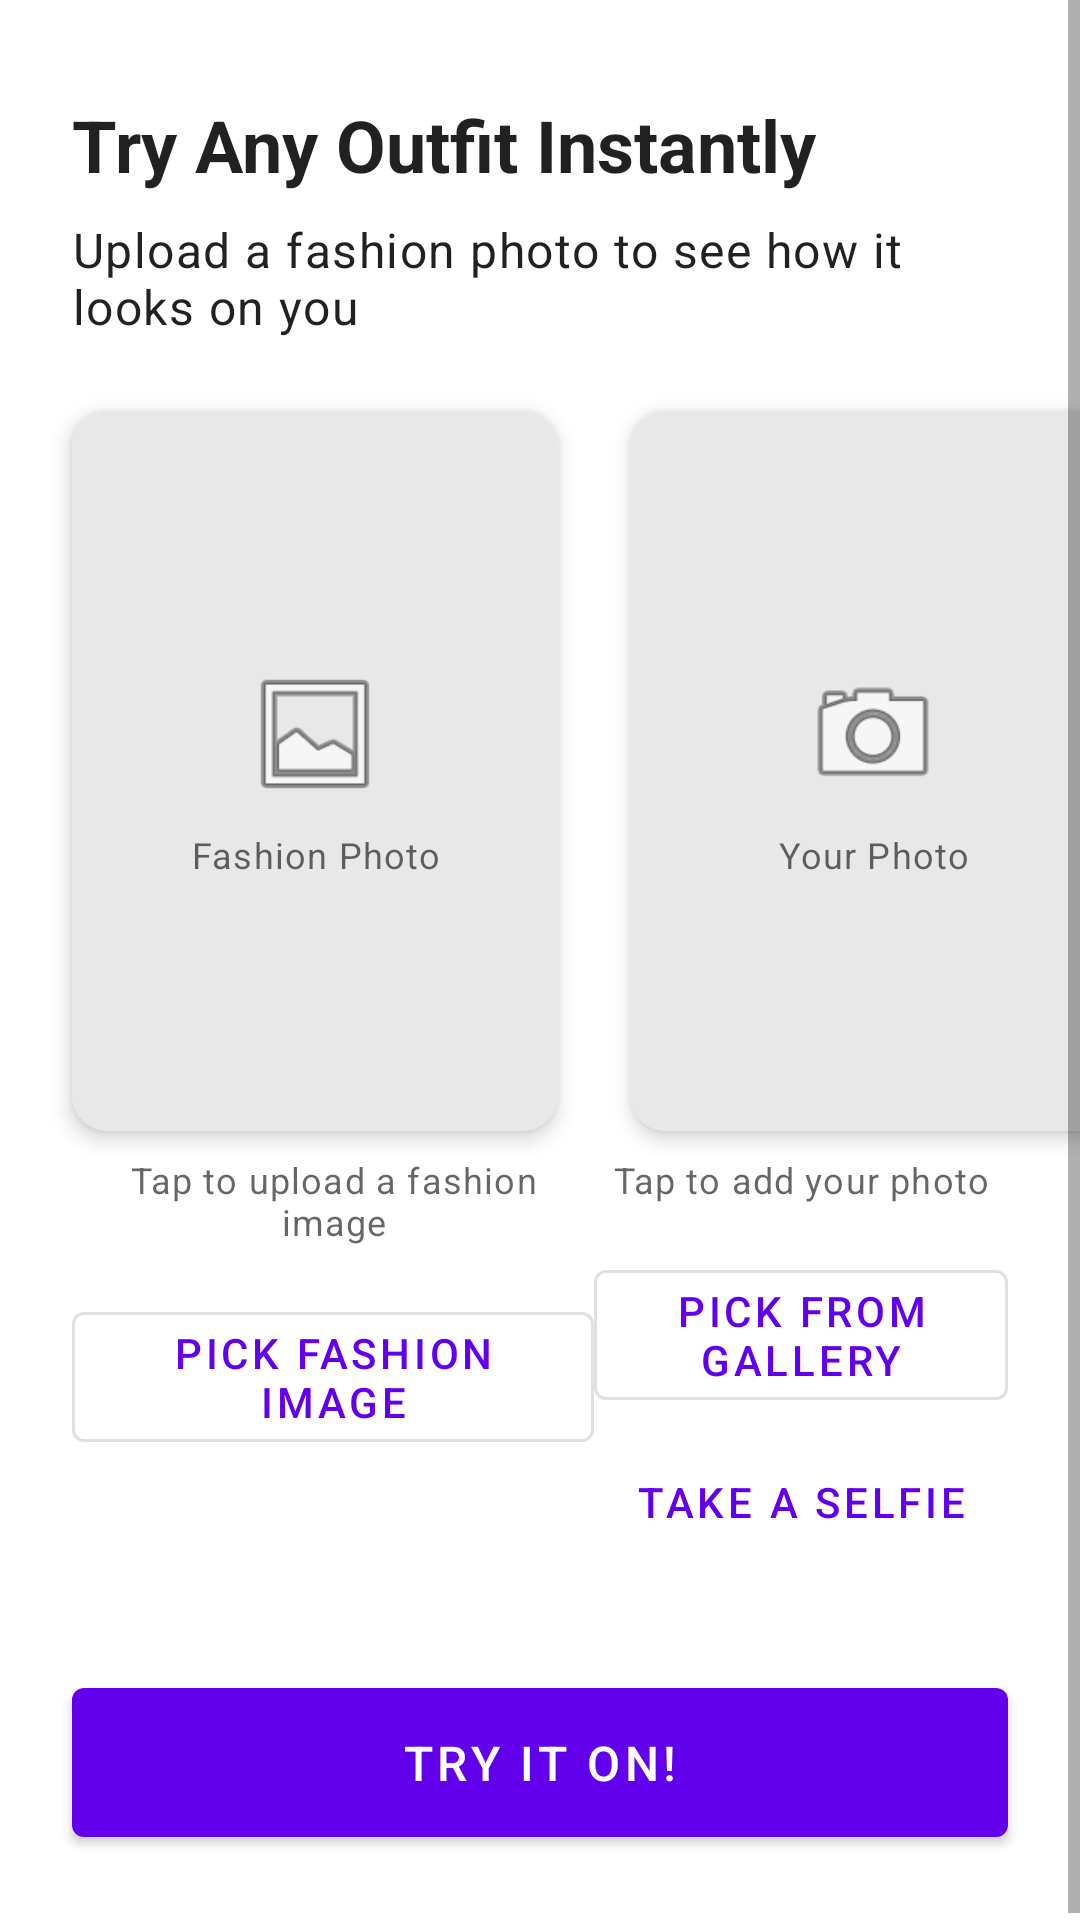

Where to tap for icons on this 1080×1920 app screen, as [x,y]:
camera: [873,732]
gallery: [315,734]
